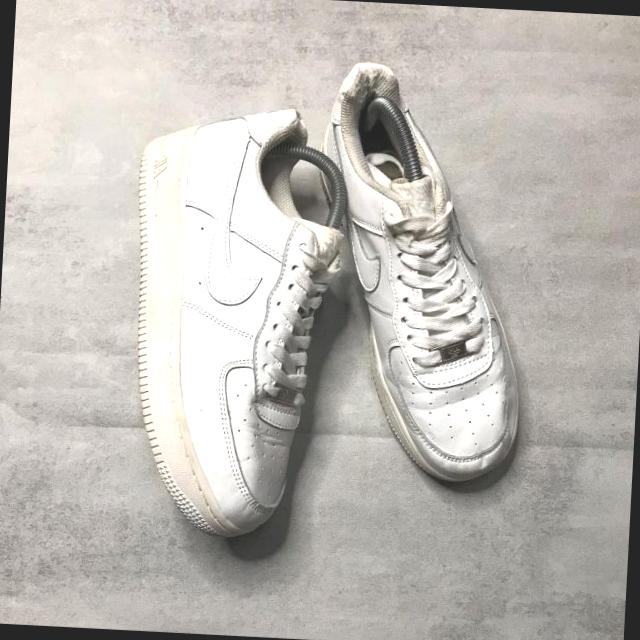nike_fake_airforce: (119, 100, 350, 545), (314, 62, 548, 493)
